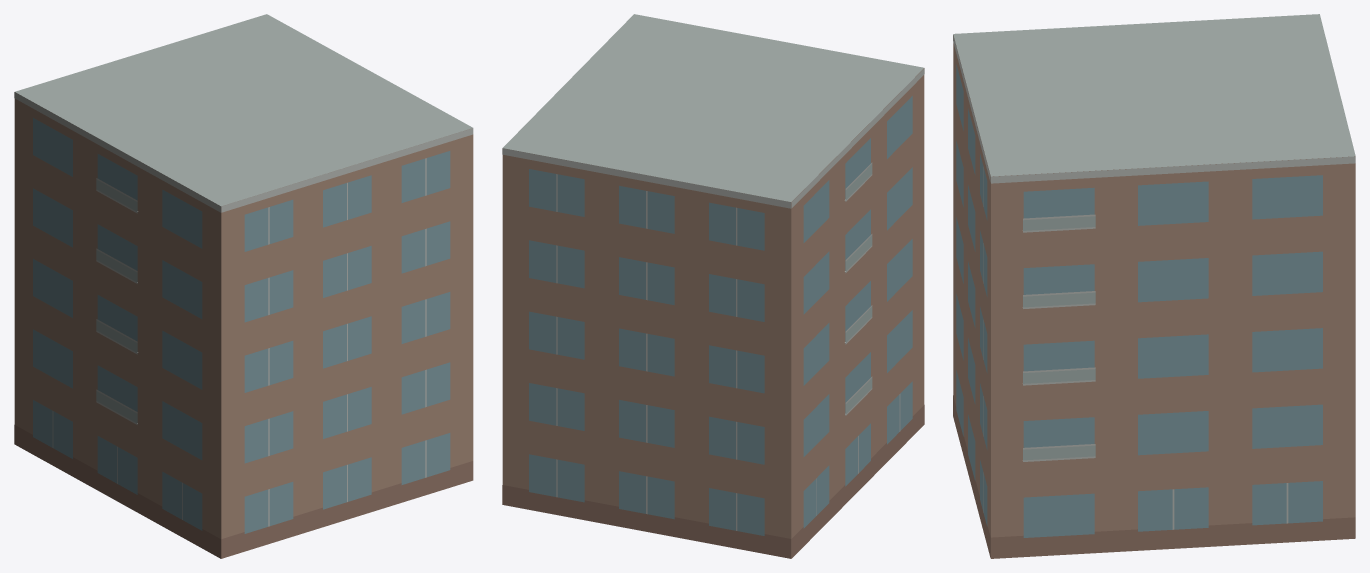
File: survey-upis-32854390.glb
The picture shows the model from 3 angles, left to right: view 1: azimuth 30°, elevation 25°; view 2: azimuth 150°, elevation 25°; view 3: azimuth 270°, elevation 25°; orthographic projection. The views are drawn at different scales.
Parts seen in each view (by area): view 1: survey-upis-32854390.tmp; view 2: survey-upis-32854390.tmp; view 3: survey-upis-32854390.tmp.
Part boxes in pixels (x1,y1,x2,y2): survey-upis-32854390.tmp: [14, 14, 473, 558]; survey-upis-32854390.tmp: [502, 14, 924, 558]; survey-upis-32854390.tmp: [953, 14, 1355, 558].
Size of the model in its own units: 12.05 by 13.2 by 12.61.
